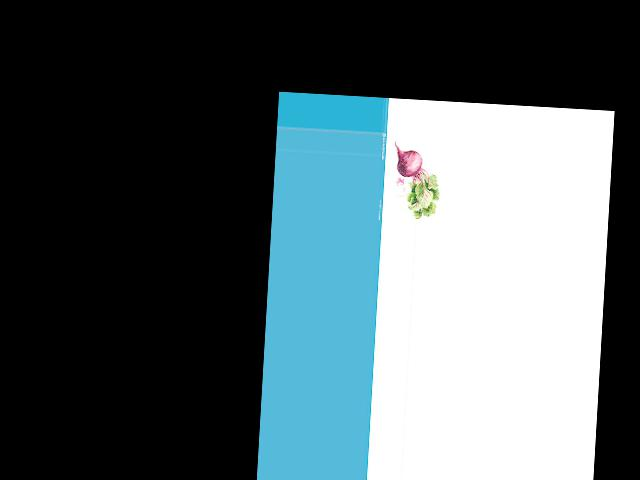beet: (390, 141, 442, 220)
